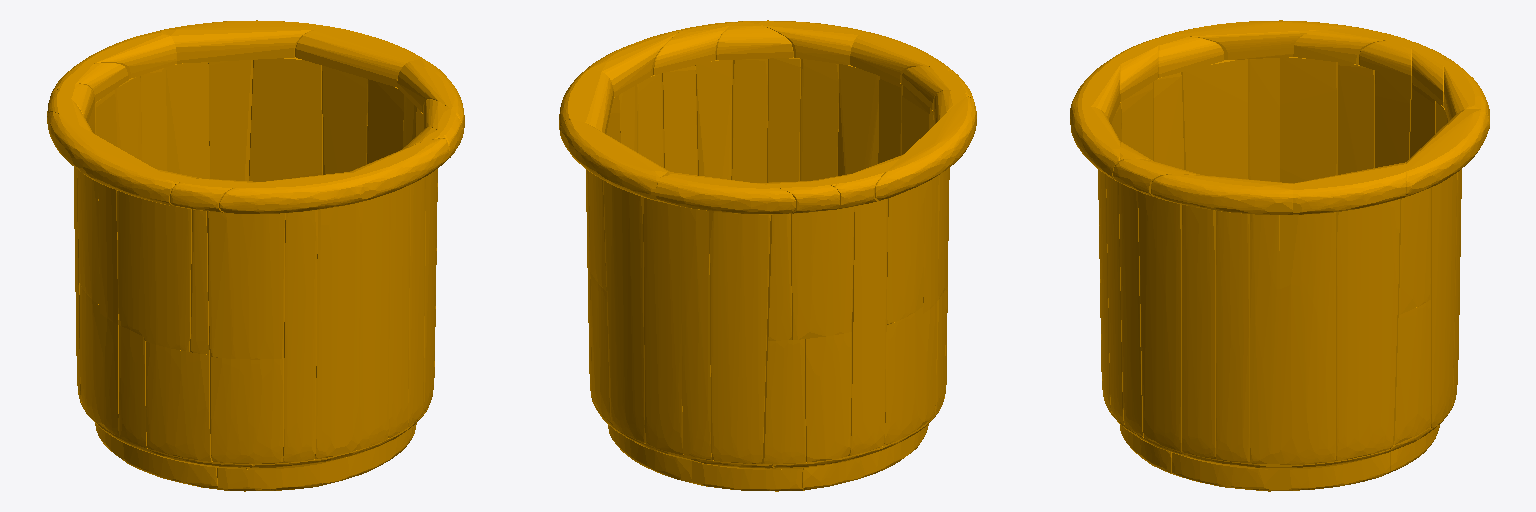
URDF robot description (065-g_cups):
<?xml version="1.0" encoding="UTF-8"?>
<robot name="065-g_cups">
	<link name="base">
		<collision>
			<geometry>
				<mesh filename="..\vhacd\065-g_cups_vhacd.obj" scale="1.0 1.0 1.0"/>
			</geometry>
			<origin xyz="0 0 0"/>
			<contact_coefficients mu="0.24" />
		</collision>
		<visual>
			<geometry>
				<mesh filename="..\vhacd\065-g_cups_vhacd.obj" scale="1.0 1.0 1.0"/>
			</geometry>
			<origin xyz="0 0 0"/>
		</visual>
		<inertial>
			<mass value="0"/>
			<inertia ixx="0.0" ixy="-0.0" ixz="-0.0" iyy="0.0" iyz="0.0" izz="0.0" />
			<origin xyz="0.012934601916347769 0.028094810245859095 0.034874353220733664"/>
		</inertial>
	</link>
</robot>

--- What the picture shows (computed from the rendered views, not written in the file) ---
Views: 3 orthographic renders of the robot side by side, from view 1: azimuth 30°, elevation 25°; view 2: azimuth 150°, elevation 25°; view 3: azimuth 270°, elevation 25°.
Model 065-g_cups with 1 links and 0 joints (none), rooted at base, posed all joints at 0.
Links seen in each view (by area): view 1: base; view 2: base; view 3: base.
Boxes of the visible links, left/top/right/bottom form: base: left=47, top=20, right=464, bottom=491; base: left=559, top=20, right=976, bottom=491; base: left=1070, top=20, right=1489, bottom=491.
Size in the robot's own frame: 0.087 by 0.0879 by 0.0743 metres.
1 mesh visuals loaded from 1 distinct referenced files (1 OBJ).